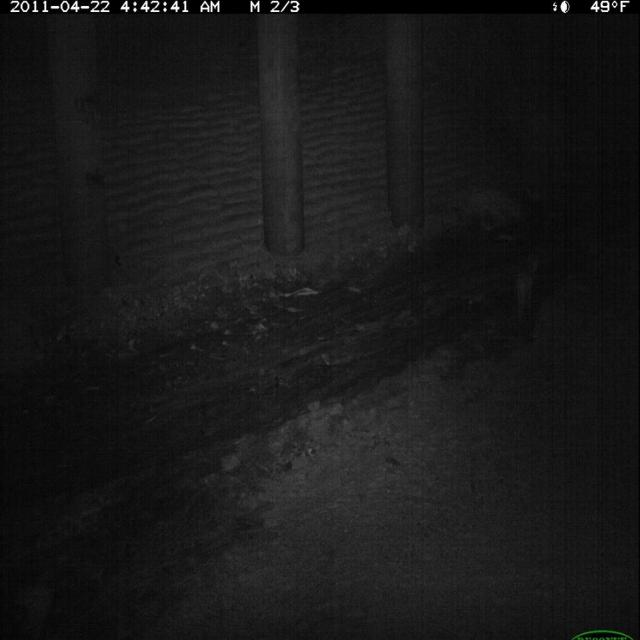bobcat: (511, 247, 543, 330)
